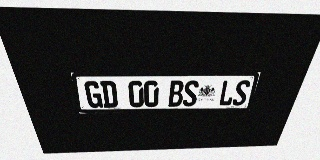0: (128, 81, 144, 107), (144, 81, 159, 107)
B: (168, 80, 184, 107)
D: (100, 81, 118, 108)
G: (84, 81, 103, 108)
L: (218, 80, 237, 106)
S: (231, 80, 251, 106), (182, 80, 199, 106)
